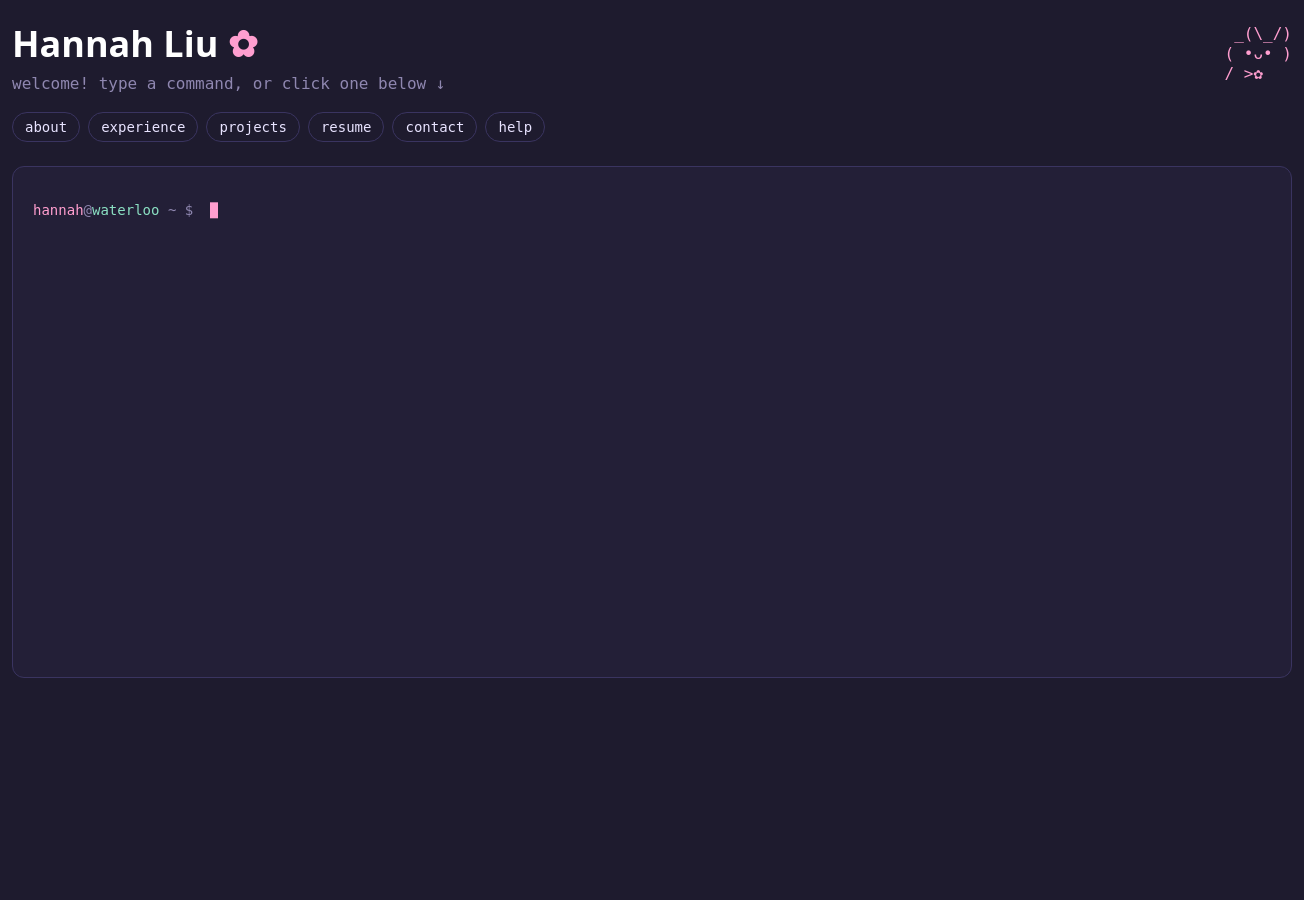
Terminal › typing a command and Enter runs it
The width and height of the screenshot is (1304, 900).
Type "help" into the field named "command".
click(740, 210); type("help")  # box [210,199,1271,222]
Then press Enter
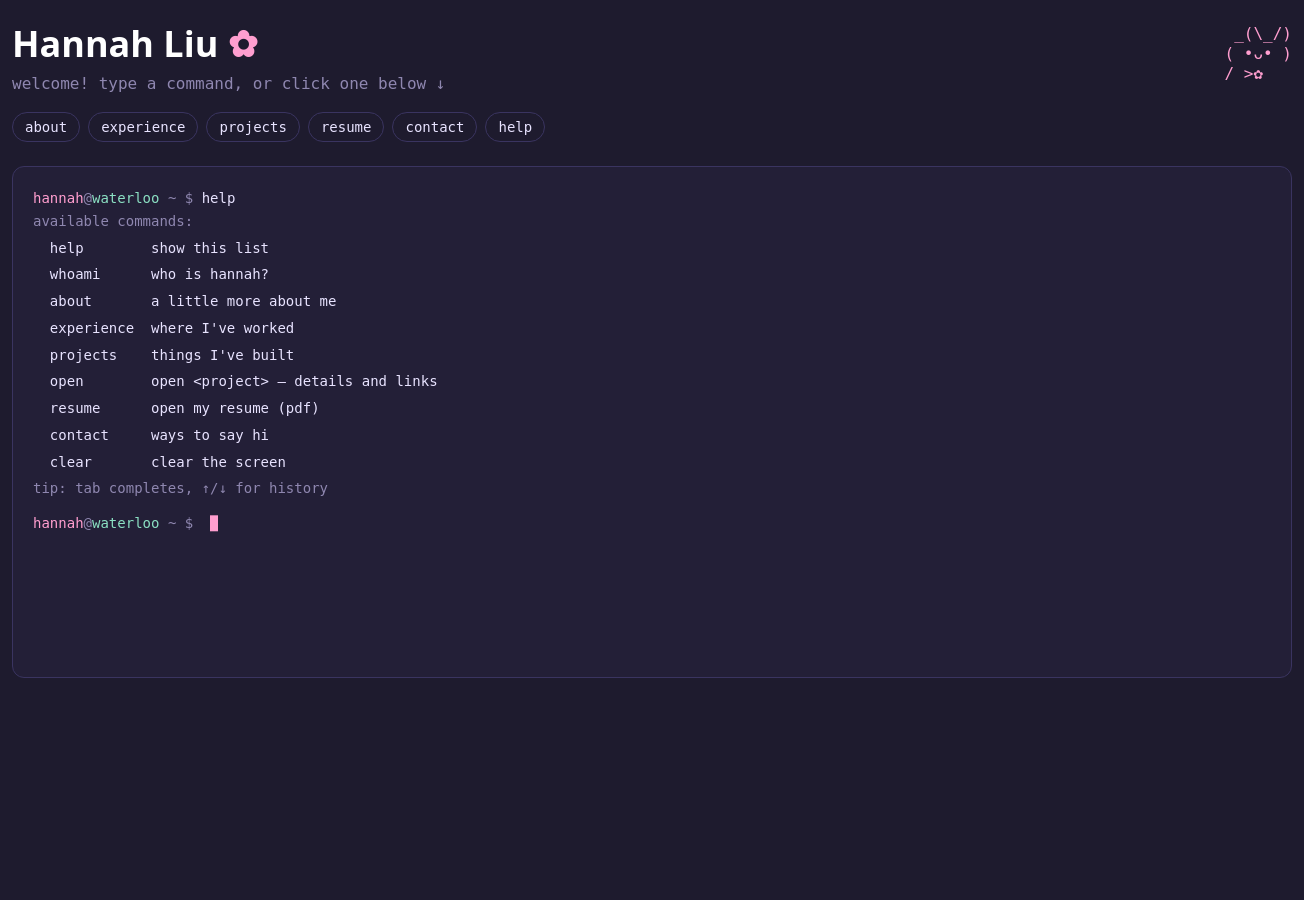
Expected: the field named "command" is empty, [210,512,1271,535]
Result: the element with test id "terminal-output" shows "available commands" at [33,213,193,229]
